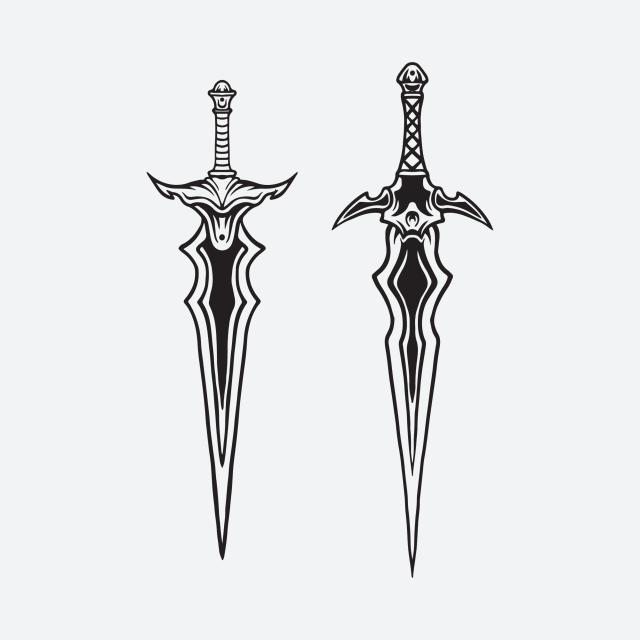weapon: (329, 59, 496, 584), (143, 72, 300, 564)
